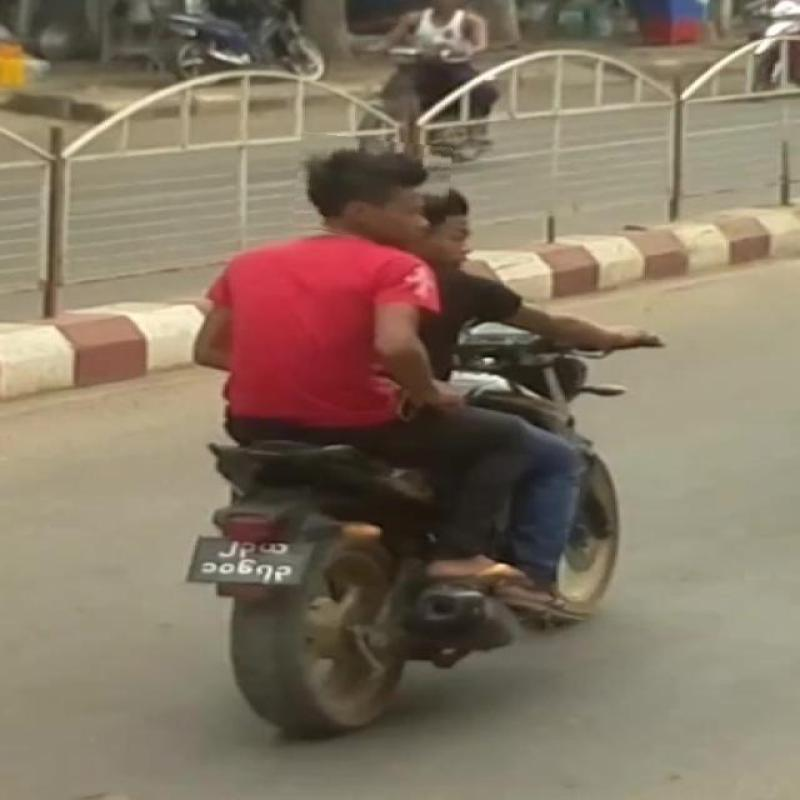nohelmet: (294, 136, 451, 240)
